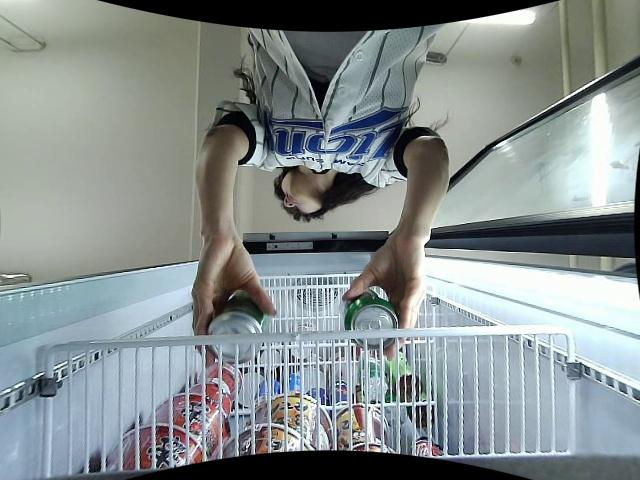00_hand: (191, 245, 279, 369), (341, 241, 427, 360)
12_chilsungCider: (209, 293, 275, 366), (342, 280, 399, 354)
